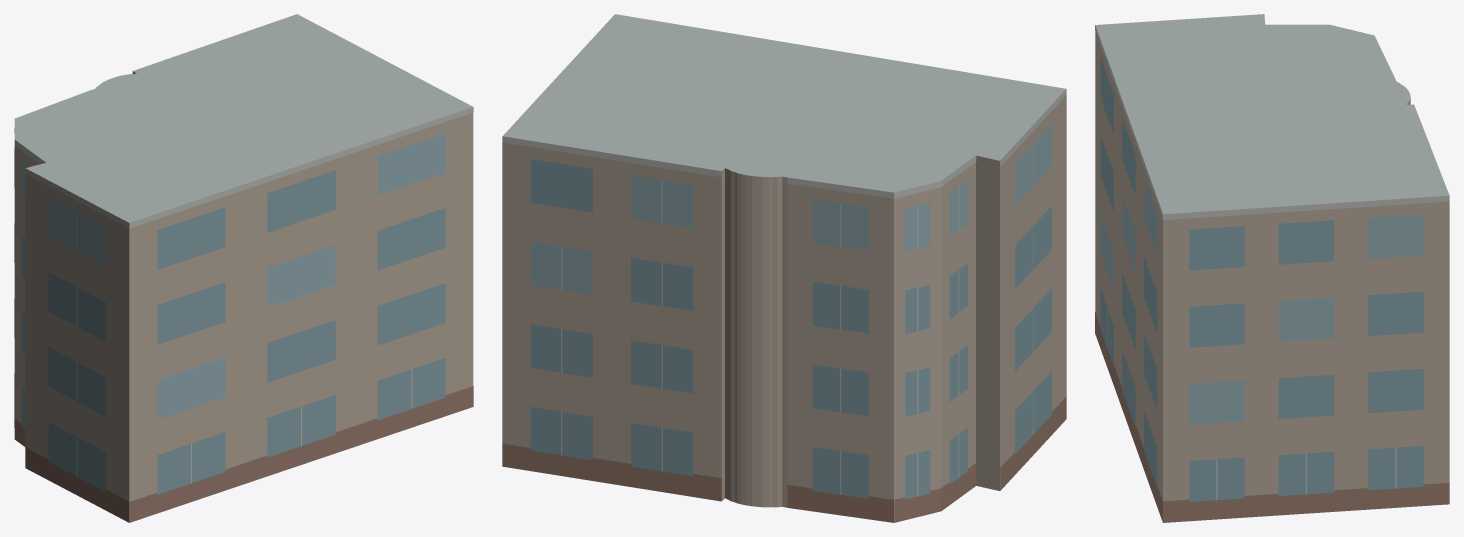
File: survey-upis-32979604.glb
3 views of the same model, side by side, from view 1: azimuth 30°, elevation 25°; view 2: azimuth 150°, elevation 25°; view 3: azimuth 270°, elevation 25° (orthographic). The views are drawn at different scales.
Parts seen in each view (by area): view 1: survey-upis-32979604.tmp; view 2: survey-upis-32979604.tmp; view 3: survey-upis-32979604.tmp.
Boxes of the visible parts, x1,y1,x2,y2 form: survey-upis-32979604.tmp: [14, 14, 473, 522]; survey-upis-32979604.tmp: [502, 14, 1066, 522]; survey-upis-32979604.tmp: [1095, 14, 1449, 522].
Size of the model in its own units: 18.1 by 13 by 13.54.
